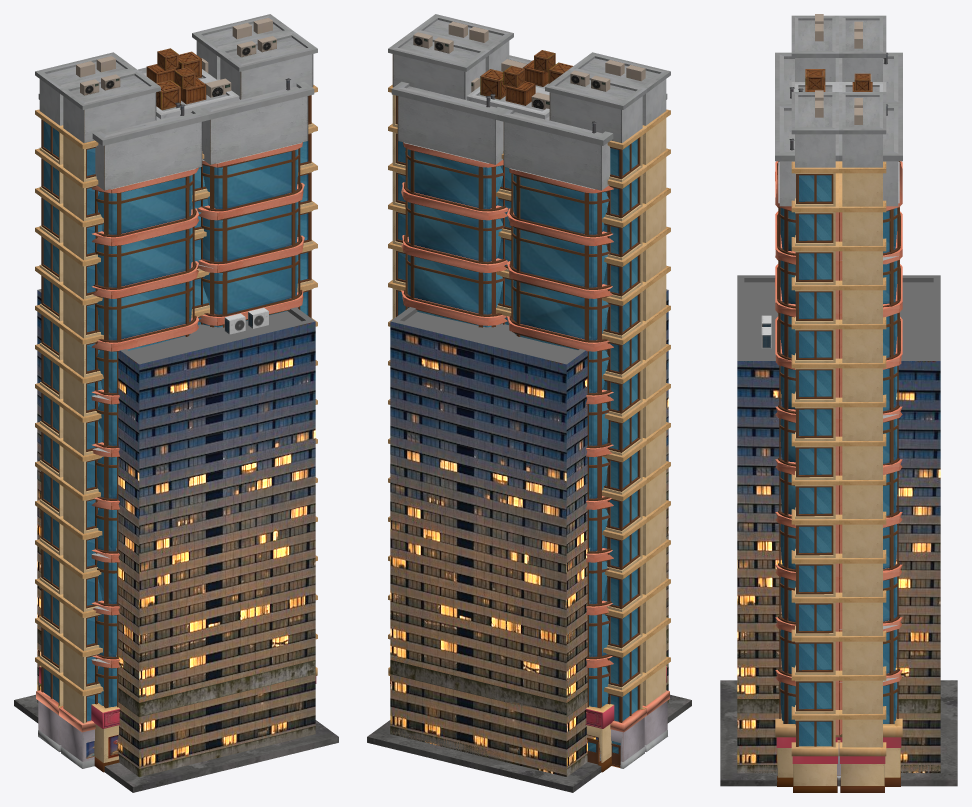
The model's file is fog_city.glb.
3 renders of one model, left to right at view 1: azimuth 30°, elevation 25°; view 2: azimuth 150°, elevation 25°; view 3: azimuth 270°, elevation 25°, orthographic.
Parts seen in each view (by area): view 1: fog_night_tower, mod_tower_big, mod_tower_medium, fog_floor, fog_office_tower; view 2: fog_night_tower, mod_tower_big, mod_tower_medium, fog_office_tower, fog_floor; view 3: mod_tower_big, fog_night_tower, mod_tower_medium, fog_office_tower, fog_floor.
Boxes of the visible parts, bbox=[...] form: fog_night_tower: bbox=[37, 289, 315, 768]; mod_tower_big: bbox=[35, 14, 317, 768]; mod_tower_medium: bbox=[38, 58, 314, 772]; fog_floor: bbox=[37, 628, 315, 776]; fog_office_tower: bbox=[14, 694, 338, 792]; fog_night_tower: bbox=[390, 289, 668, 776]; mod_tower_big: bbox=[388, 14, 670, 768]; mod_tower_medium: bbox=[391, 55, 667, 772]; fog_office_tower: bbox=[367, 694, 691, 792]; fog_floor: bbox=[390, 628, 668, 776]; mod_tower_big: bbox=[791, 14, 886, 792]; fog_night_tower: bbox=[737, 275, 940, 773]; mod_tower_medium: bbox=[775, 52, 902, 786]; fog_office_tower: bbox=[720, 680, 957, 786]; fog_floor: bbox=[737, 699, 940, 773].
Bounding box in the file's own units: 4 × 10.93 × 3.5.
14 materials, 13 textured.
